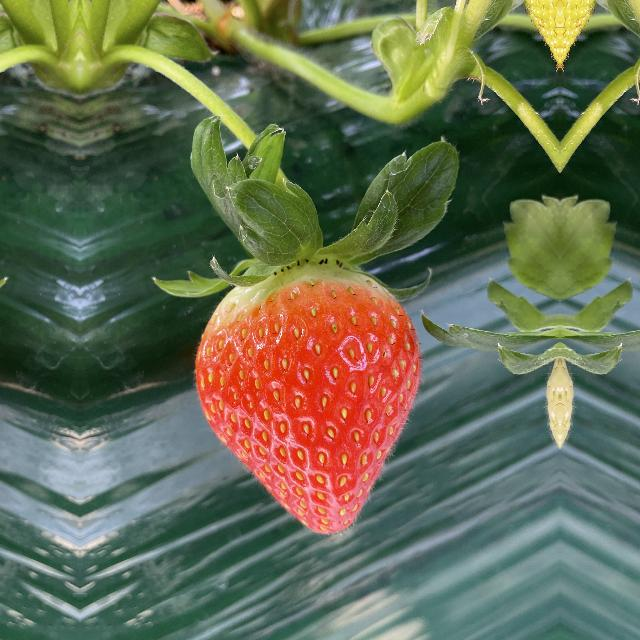Health_100: (186, 263, 430, 541)
